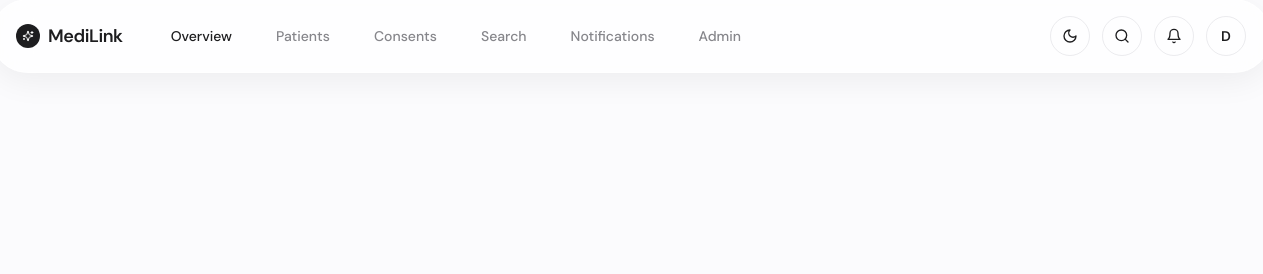
Scenario: TopBar › renders user menu with logout
The width and height of the screenshot is (1263, 274).
Click the button named "User menu": {"x": 1226, "y": 36} [1206,16,1246,56]
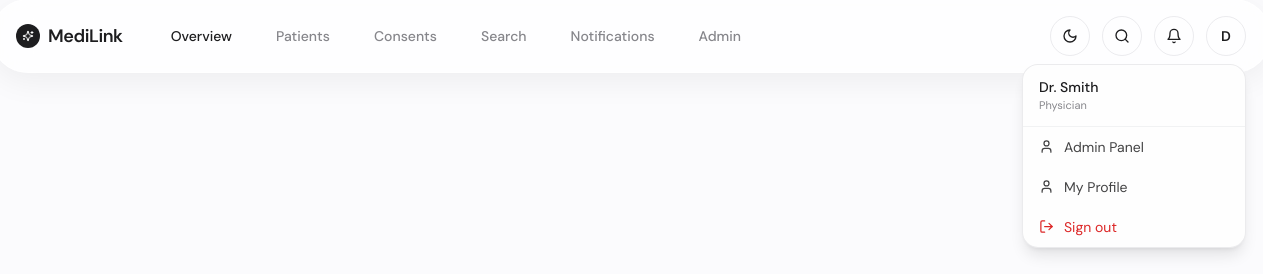
Check: the button "Sign out" is shown, box [1023,206,1245,246]
Check: the link "Admin Panel" is shown, box [1039,138,1144,156]
